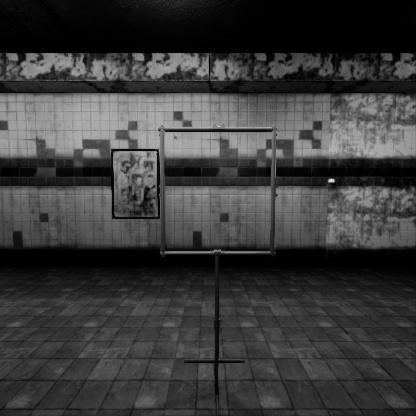gate: (160, 159, 287, 289)
